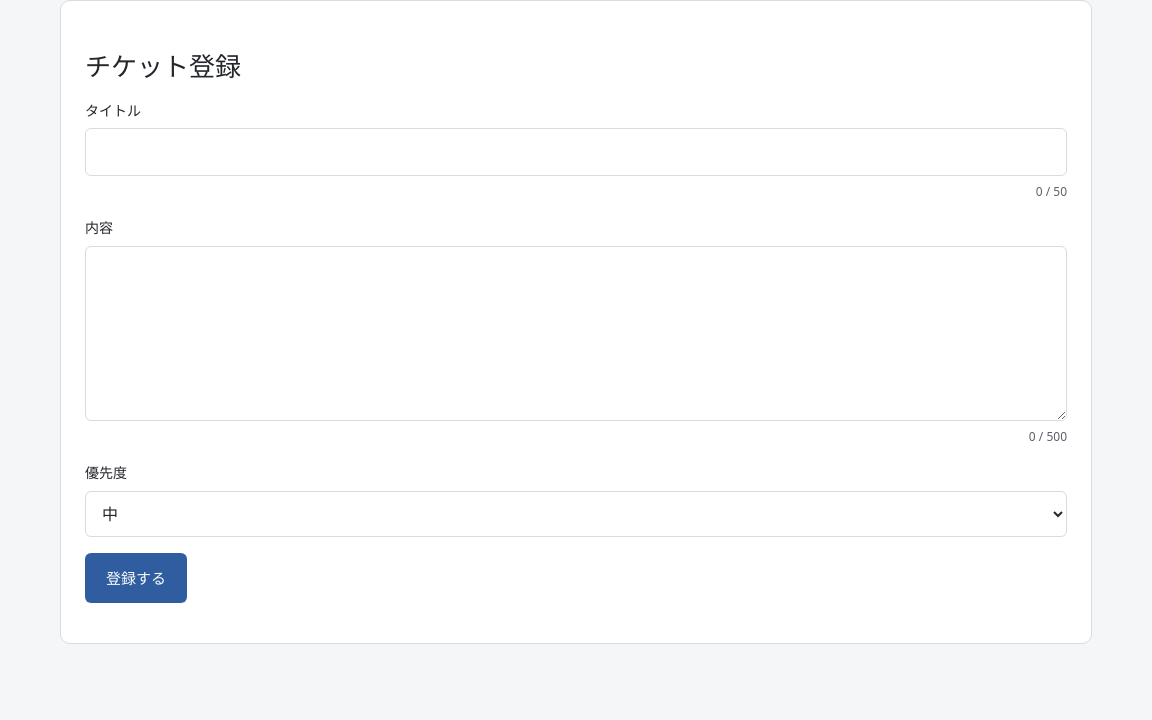
Test: TicketCreatePage › 内容が空欄の場合は内容用のメッセージを表示しAPIを呼ばない
The image size is (1152, 720).
expect the button "登録する" is enabled: met, box [85,553,187,603]
Step 1. Type "タイトルだけ入力" into the field labelled "タイトル" → (576, 152), box [85,128,1067,176]
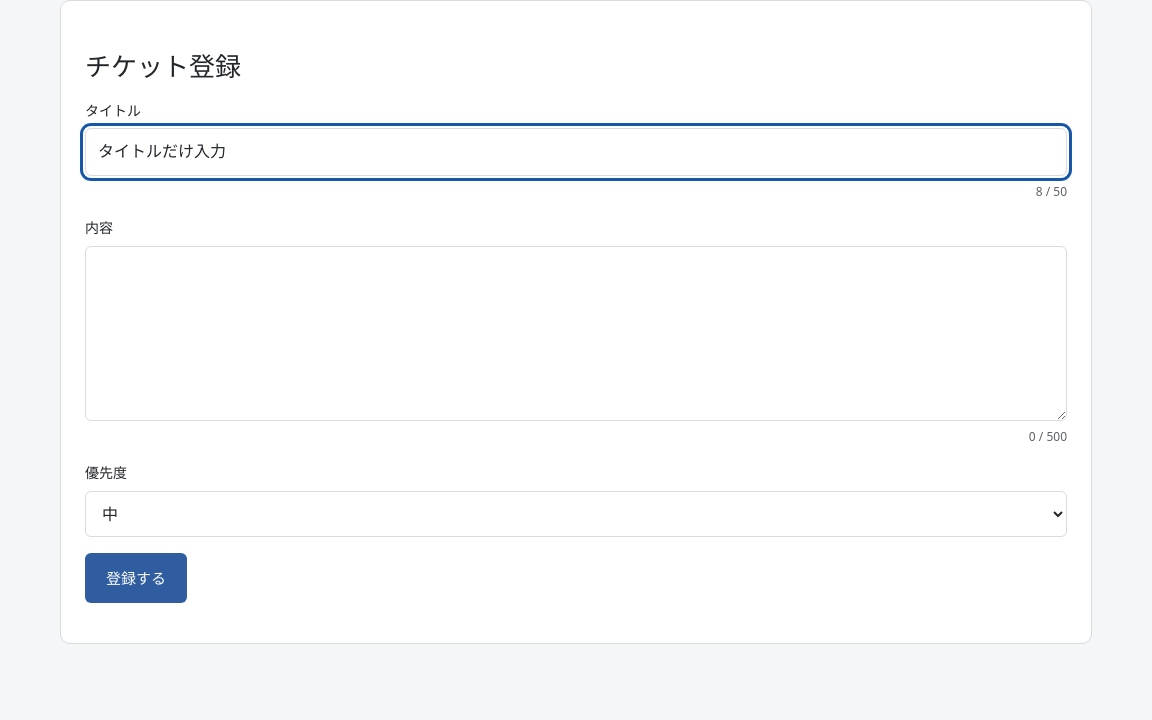
Step 2. Click the button "登録する" → (136, 578), box [85,553,187,603]
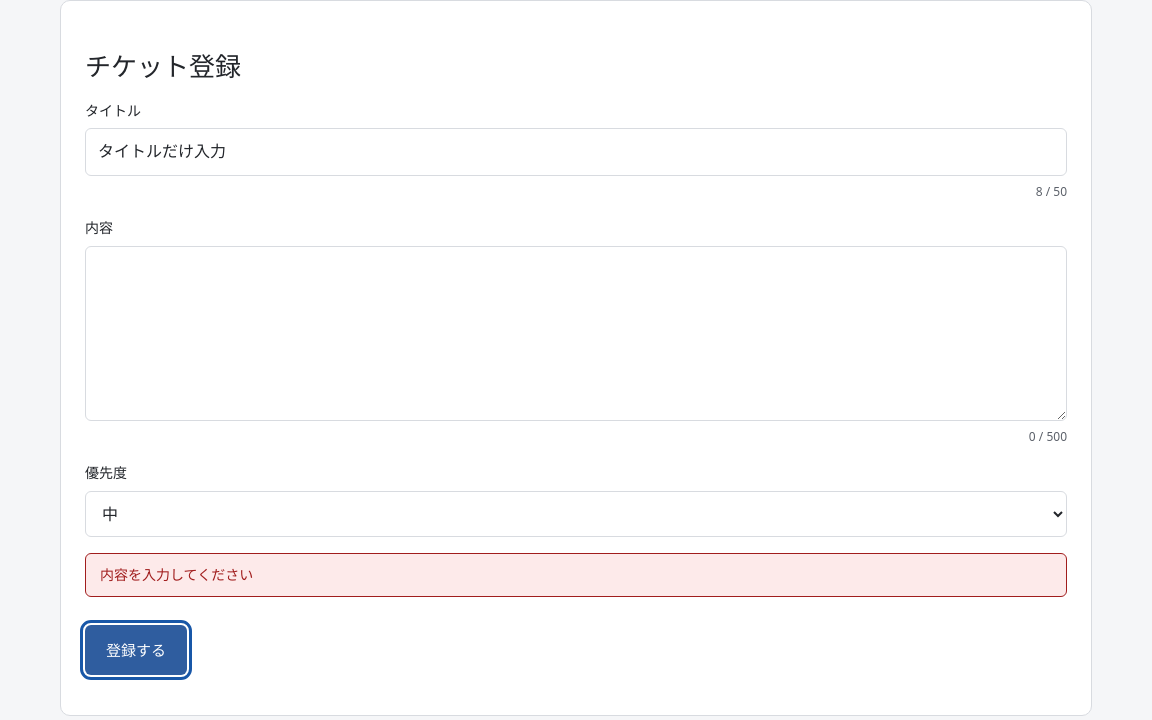
expect the message reads "内容を入力してください": met, box [100,565,253,584]
